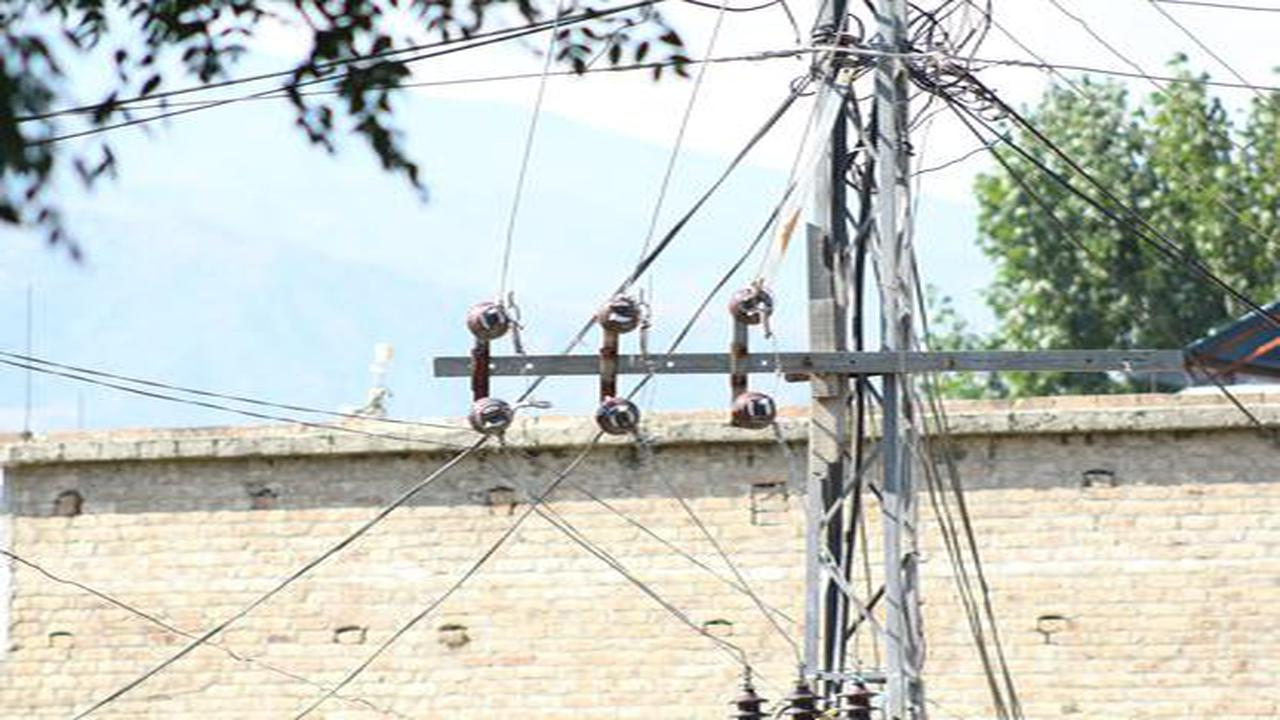insulator_pin: (584, 389, 647, 442), (724, 386, 780, 436), (720, 285, 780, 330), (593, 290, 643, 339), (470, 393, 519, 442), (465, 295, 516, 339)
